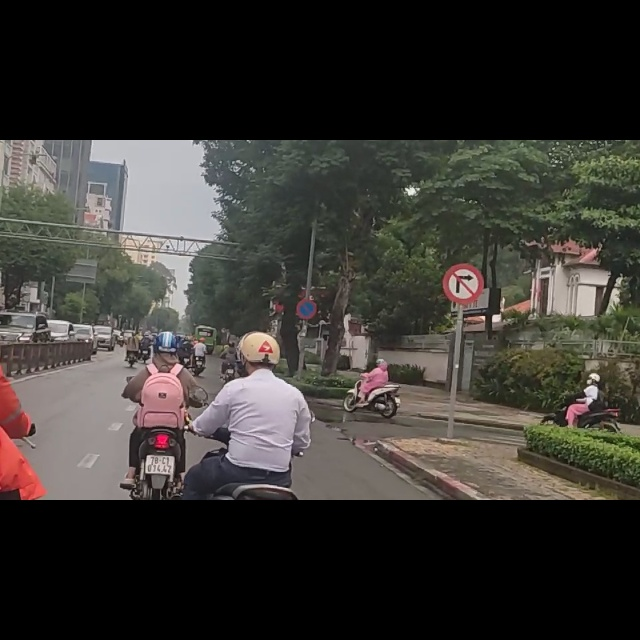bien_cam: (445, 222, 482, 289), (296, 281, 317, 320)
